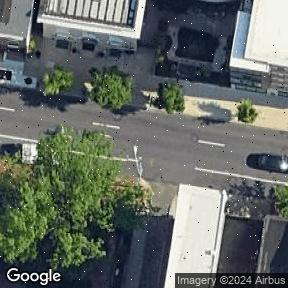vegetation: (0, 124, 152, 269), (90, 67, 131, 111), (36, 62, 77, 100), (156, 83, 185, 113), (235, 99, 258, 124), (274, 186, 288, 217)
